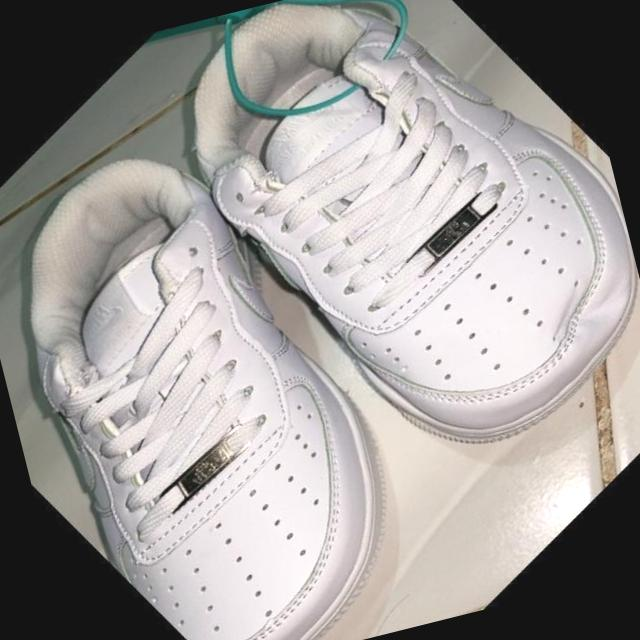nike_fake_airforce: (93, 0, 640, 561), (0, 59, 519, 640)
